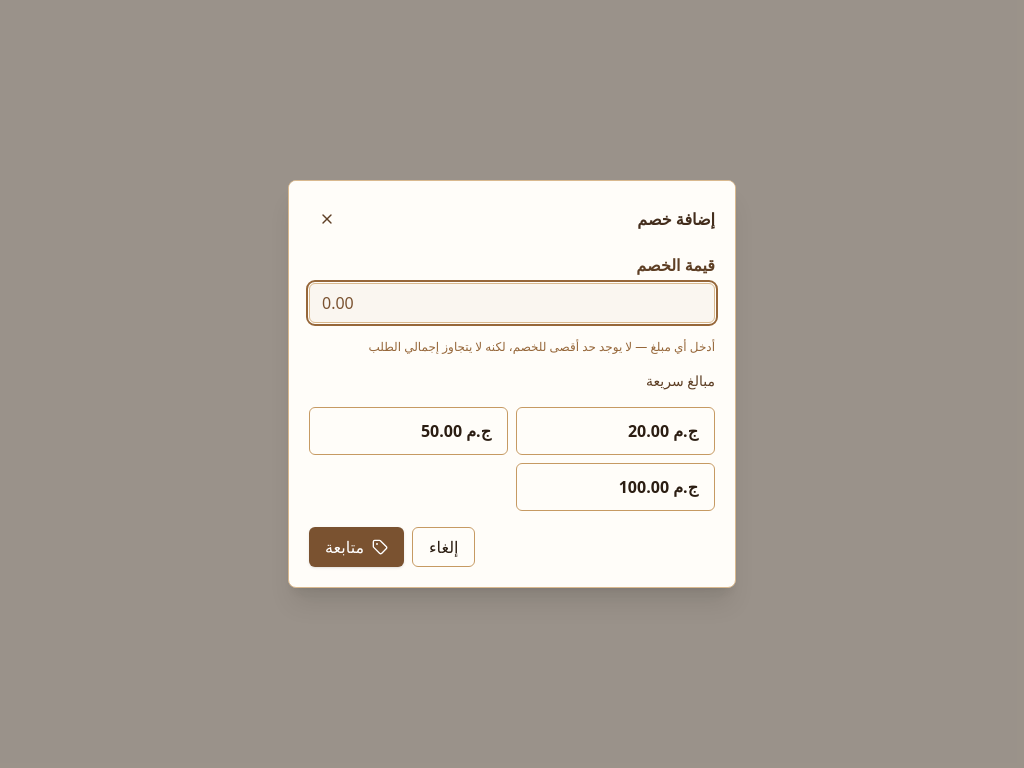
Test: DiscountDialog › reports a refused authorization and applies nothing
Type "50" into the field labelled "قيمة الخصم". click: (512, 303)
box: [309,283,715,323]
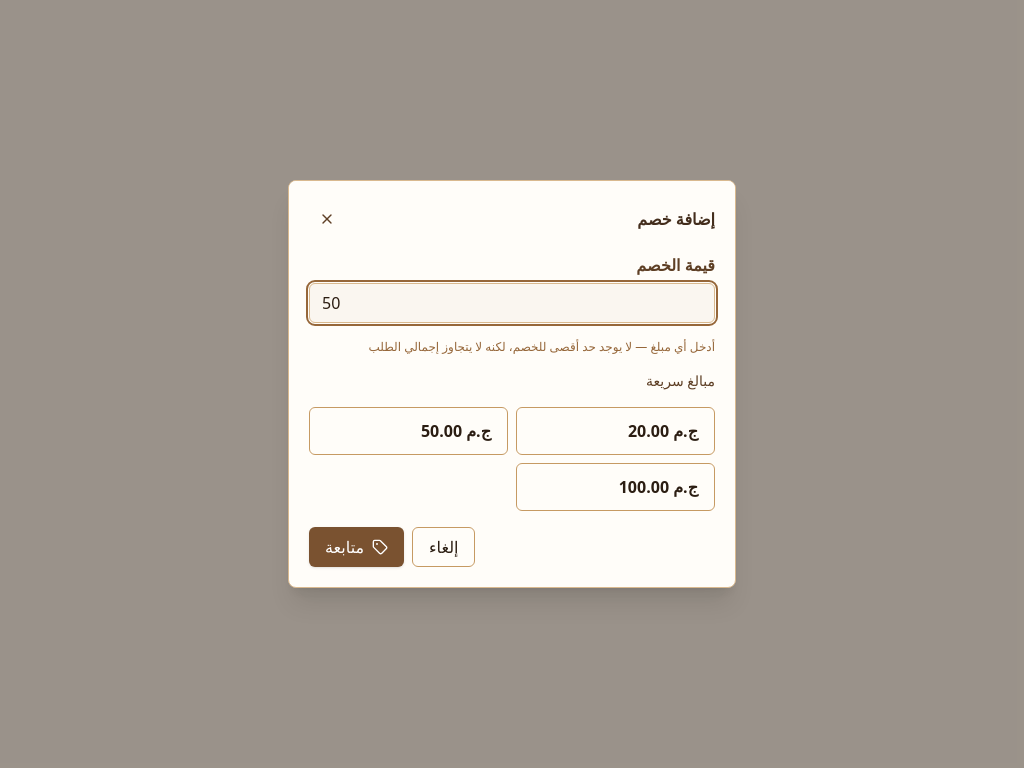
Click the button "متابعة". click: (356, 547)
box: [309,527,404,567]
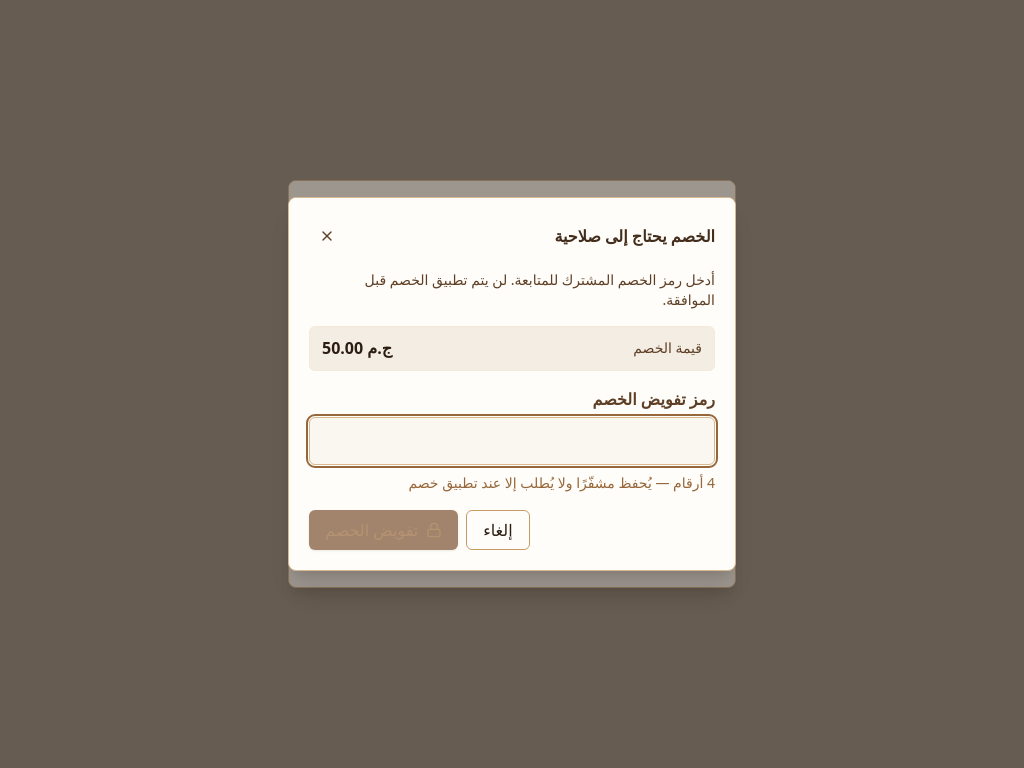
Type "1234" into the password field labelled "رمز تفويض الخصم". click: (512, 441)
box: [309,417,715,465]
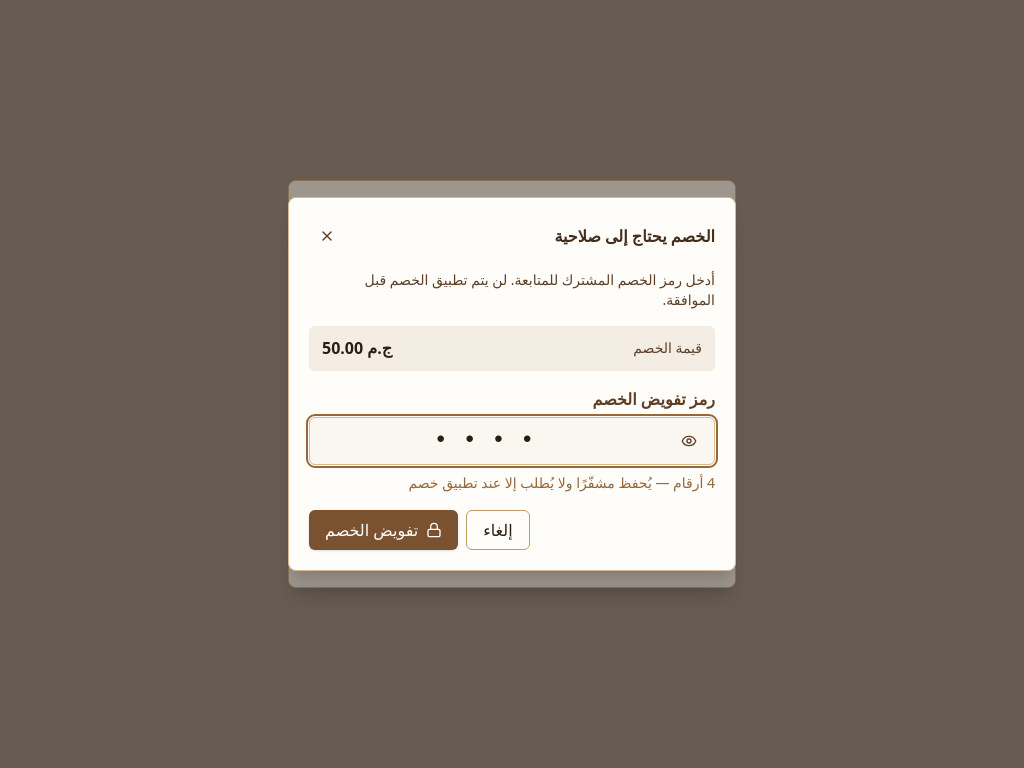
Click the button "تفويض الخصم". click: (384, 530)
box: [309,510,458,550]
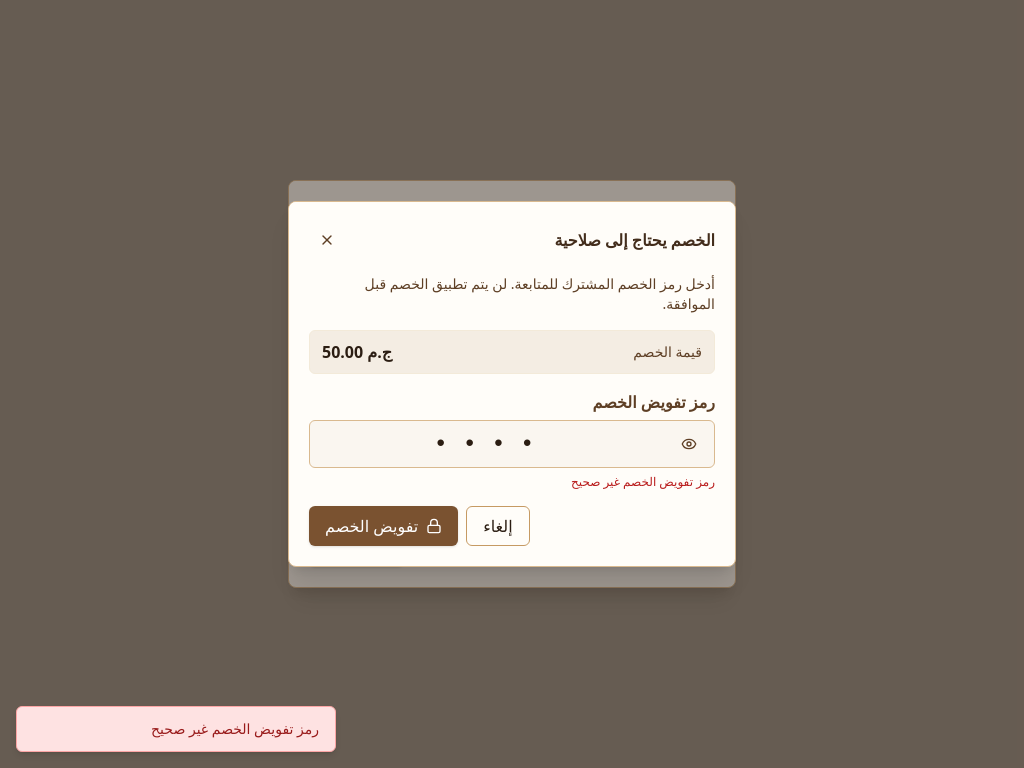
Expected: the message reads "رمز تفويض الخصم غير صحيح", [571,473,715,490]
